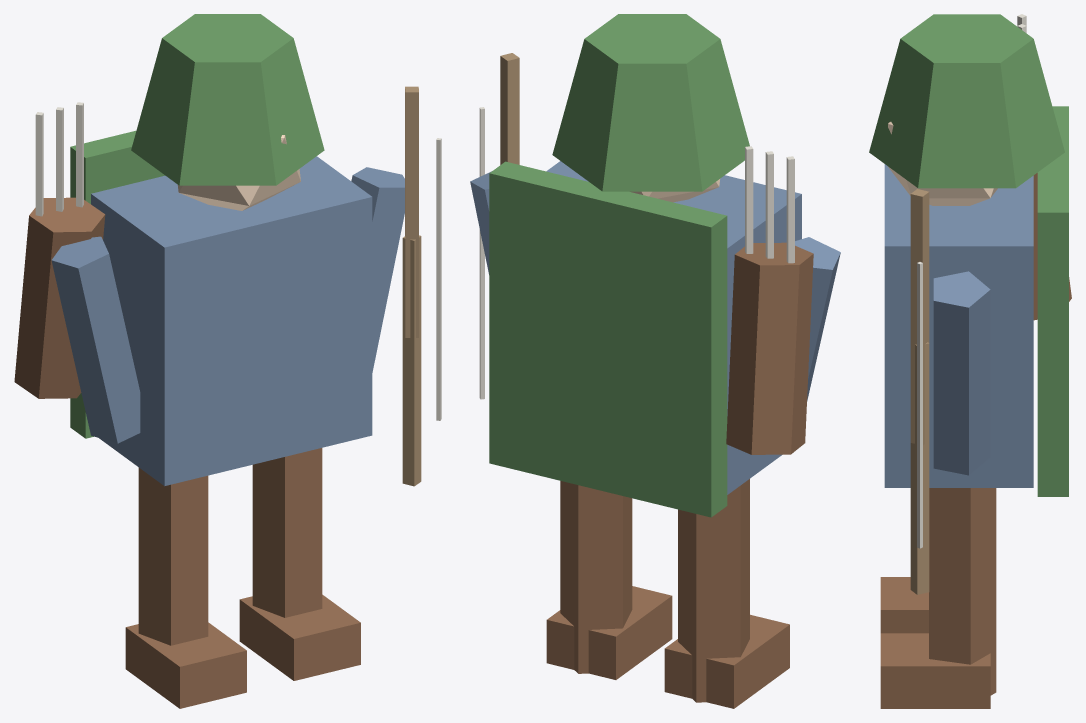
The model's file is npc_hunter.glb.
3 views of the same model, side by side, from view 1: azimuth 30°, elevation 25°; view 2: azimuth 150°, elevation 25°; view 3: azimuth 270°, elevation 25° (orthographic). The views are drawn at different scales.
Visible parts, largest first — view 1: torso.003, hood.002, leg_0.004, arm_0.003, leg_1.004, quiver, boot_0.003, boot_1.003, arm_1.003, bow_low, cloak, bow_top (+5 smaller); view 2: cloak, hood.002, quiver, leg_0.004, leg_1.004, torso.003, boot_1.003, boot_0.003, arm_0.003, bow_top, bow_string, arm_1.003 (+4 smaller); view 3: torso.003, hood.002, leg_1.004, cloak, arm_1.003, boot_1.003, bow_top, bow_low, boot_0.003, bow_string, head.003, quiver.
Boxes of the visible parts, bbox=[...] form: torso.003: bbox=[91, 156, 372, 486]; hood.002: bbox=[131, 14, 324, 185]; leg_0.004: bbox=[138, 467, 208, 645]; arm_0.003: bbox=[51, 236, 140, 443]; leg_1.004: bbox=[252, 448, 322, 617]; quiver: bbox=[14, 197, 105, 398]; boot_0.003: bbox=[125, 622, 246, 708]; boot_1.003: bbox=[239, 594, 360, 680]; arm_1.003: bbox=[351, 167, 404, 372]; bow_low: bbox=[402, 235, 421, 486]; cloak: bbox=[70, 130, 164, 438]; bow_top: bbox=[405, 86, 418, 337]; cloak: bbox=[489, 161, 727, 517]; hood.002: bbox=[552, 14, 749, 191]; quiver: bbox=[726, 242, 813, 454]; leg_0.004: bbox=[678, 479, 749, 702]; leg_1.004: bbox=[560, 481, 632, 673]; torso.003: bbox=[546, 161, 801, 494]; boot_1.003: bbox=[546, 586, 672, 679]; boot_0.003: bbox=[664, 614, 789, 708]; arm_0.003: bbox=[795, 237, 840, 401]; bow_top: bbox=[500, 53, 519, 164]; bow_string: bbox=[479, 107, 484, 399]; arm_1.003: bbox=[470, 171, 491, 274]; torso.003: bbox=[884, 164, 1033, 487]; hood.002: bbox=[869, 14, 1064, 188]; leg_1.004: bbox=[929, 488, 996, 695]; cloak: bbox=[1037, 106, 1068, 496]; arm_1.003: bbox=[933, 271, 990, 475]; boot_1.003: bbox=[880, 633, 990, 708]; bow_top: bbox=[910, 189, 929, 444]; bow_low: bbox=[910, 342, 929, 594]; boot_0.003: bbox=[880, 577, 928, 633]; bow_string: bbox=[917, 262, 922, 548]; head.003: bbox=[888, 121, 997, 205]; quiver: bbox=[1033, 173, 1071, 320].
Size of the model in its own units: 1.09 by 1.76 by 0.5176.
